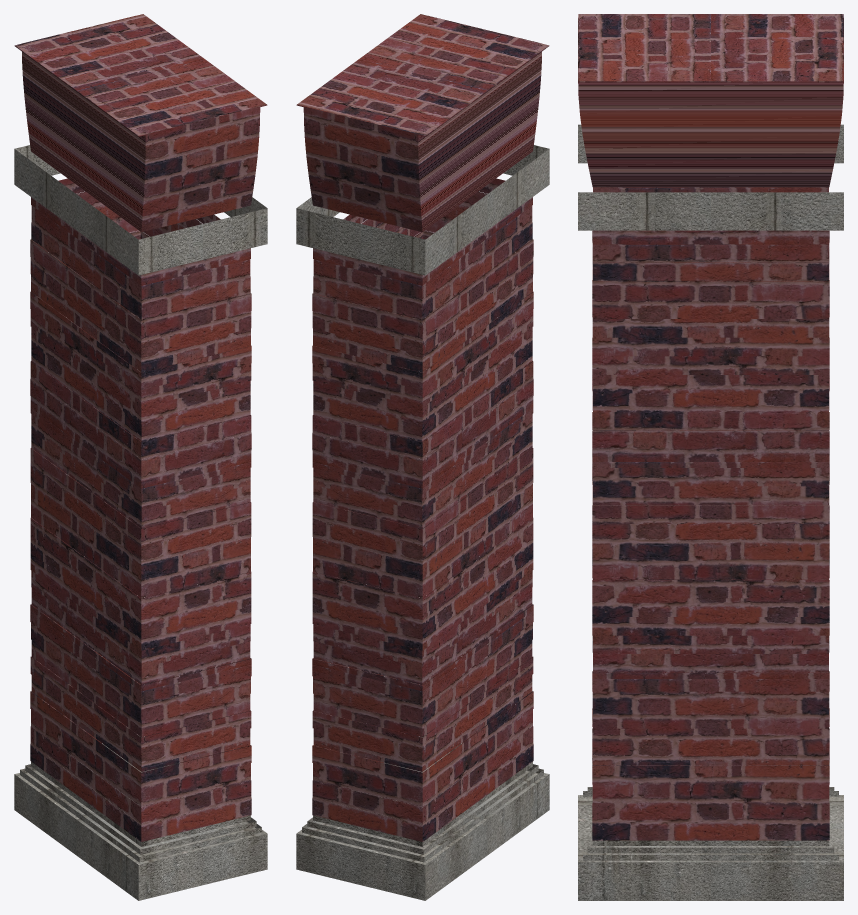
Rendered from service-wall-end.glb.
The picture shows the model from 3 angles, left to right: view 1: azimuth 30°, elevation 25°; view 2: azimuth 150°, elevation 25°; view 3: azimuth 270°, elevation 25°; orthographic projection. The views are drawn at different scales.
Parts seen in each view (by area): view 1: service-wall-end; view 2: service-wall-end; view 3: service-wall-end.
Boxes of the visible parts, x1=… form: service-wall-end: x1=14, y1=14, x2=267, y2=900; service-wall-end: x1=296, y1=14, x2=549, y2=900; service-wall-end: x1=578, y1=14, x2=843, y2=900.
Bounding box in the file's own units: 0.6 × 3.4 × 1.
Materials: 2 (2 with a texture image).
